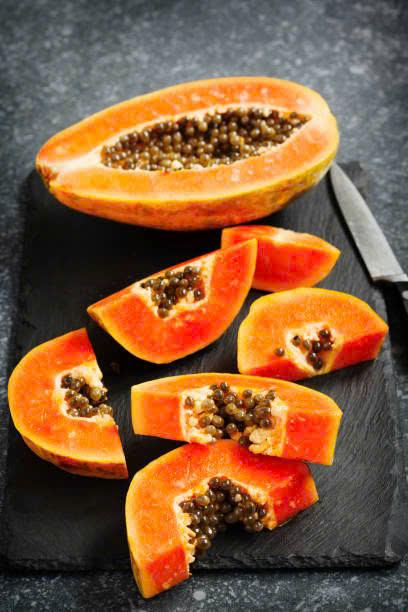papaya: (22, 71, 368, 225), (111, 438, 336, 587), (116, 367, 348, 473), (76, 238, 259, 362), (6, 322, 128, 483), (232, 282, 388, 376), (222, 215, 343, 296)
